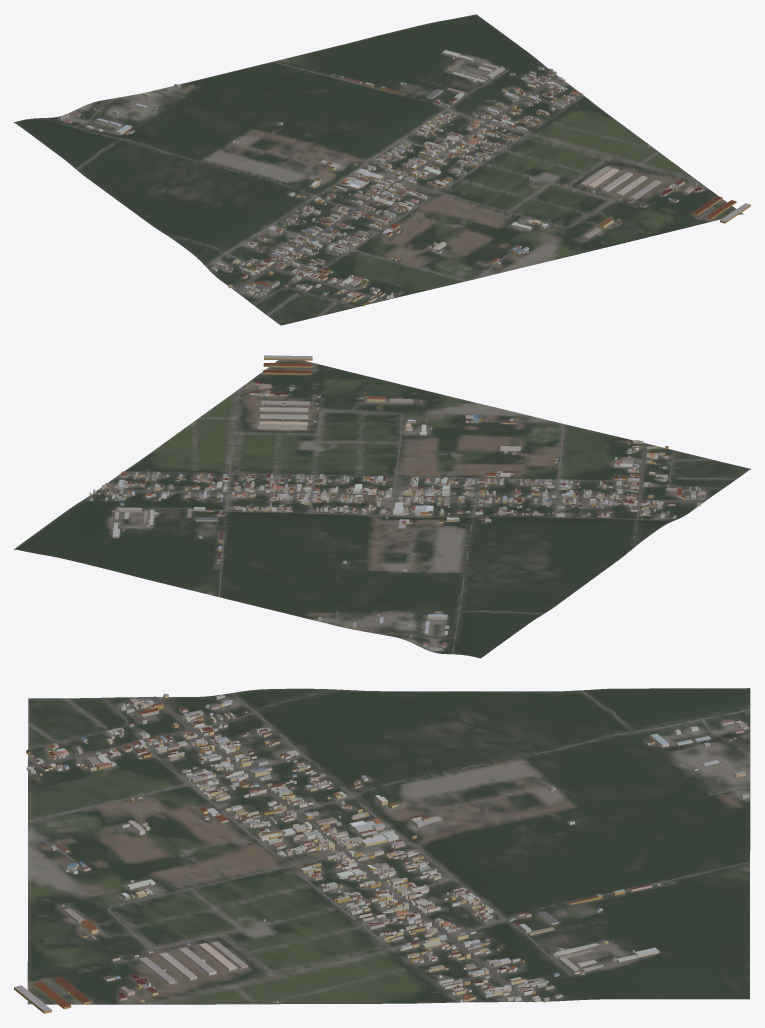
3 views of the same model, one above another, from view 1: azimuth 30°, elevation 25°; view 2: azimuth 150°, elevation 25°; view 3: azimuth 270°, elevation 25° (orthographic). The views are drawn at different scales.
Visible parts, largest first — view 1: ground, buildings, roads; view 2: ground, buildings, roads; view 3: ground, buildings, roads.
Boxes of the visible parts, x1,y1,x2,y2 form: ground: [14, 14, 743, 325]; buildings: [58, 50, 750, 306]; roads: [41, 61, 698, 316]; ground: [14, 360, 750, 658]; buildings: [89, 355, 705, 650]; roads: [96, 388, 736, 654]; ground: [27, 688, 750, 1004]; buildings: [14, 693, 749, 1013]; roads: [27, 689, 750, 1004].
Size of the model in its own units: 1444 by 31.88 by 1429.
